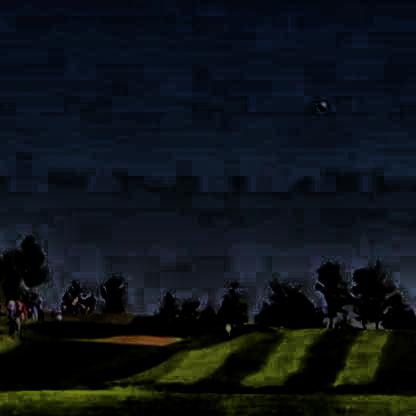golfball: (314, 98, 323, 107)
